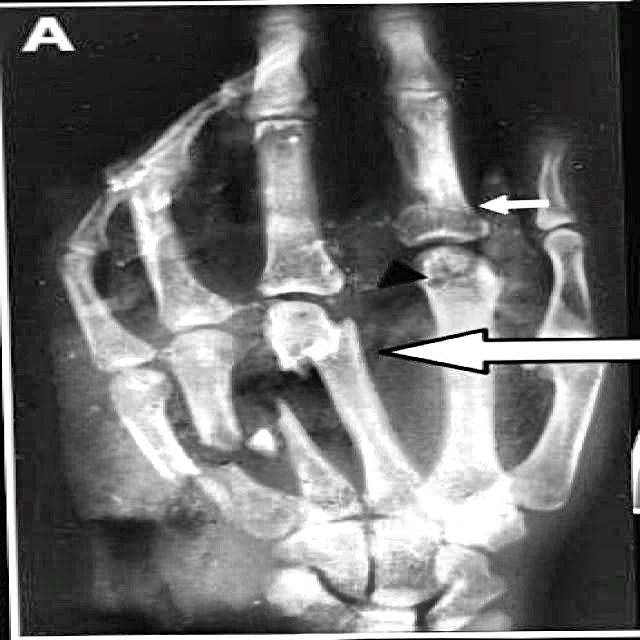Oblique Displaced: (261, 309, 386, 381)
Segmental: (192, 395, 333, 466)
Transverse Displaced: (143, 454, 246, 502)
